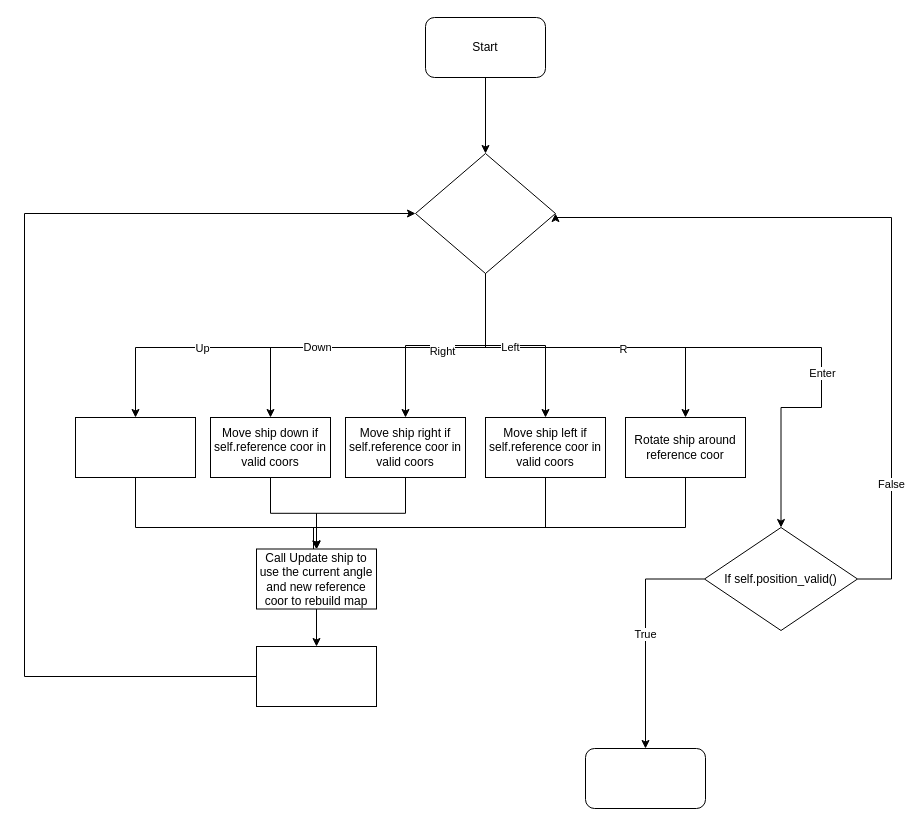
Image size: 922x826. Some labels were removed from this diagram. The shapes that lost their labels are listed below. From the top down, each one's centre as x and y in pixels, then its label:
the point at 485,213: Read key
the point at 135,447: Move ship up if self.reference coor in valid coors
the point at 316,676: Color ship and map appropriate colours
the point at 645,778: End
